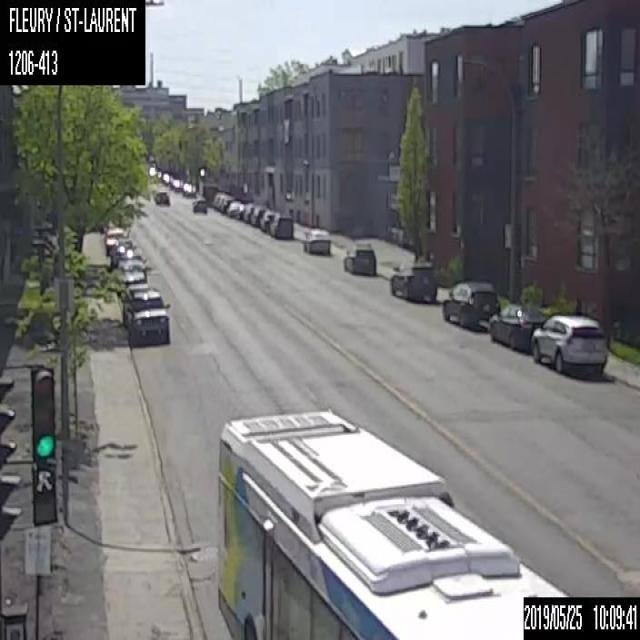bus: (215, 406, 572, 638)
vehicle: (530, 313, 610, 375), (488, 304, 546, 352), (124, 287, 171, 345), (441, 280, 499, 327), (390, 252, 438, 301), (342, 238, 376, 274), (117, 258, 146, 298), (109, 237, 141, 270), (302, 224, 330, 255), (104, 227, 128, 256), (269, 213, 293, 239), (199, 182, 217, 206), (242, 201, 258, 223), (260, 209, 276, 231), (249, 206, 267, 224), (191, 196, 207, 214), (225, 200, 241, 216), (154, 190, 169, 204)
